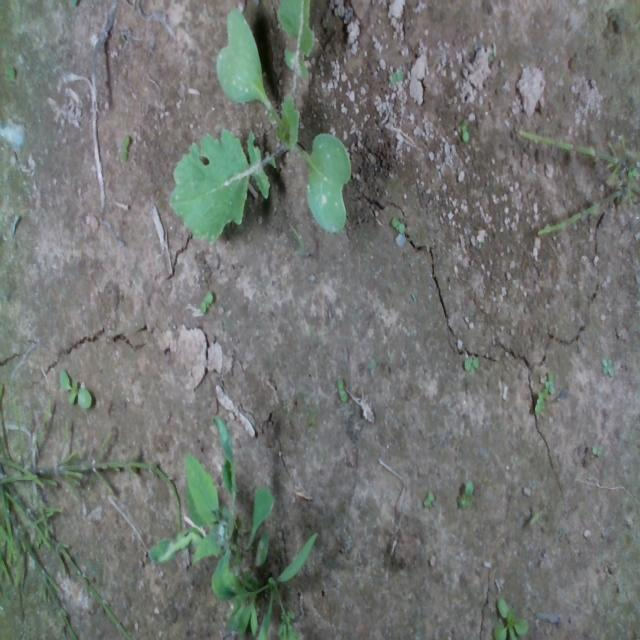weed: (58, 366, 92, 410), (456, 479, 474, 509), (462, 351, 479, 373), (199, 290, 213, 314), (390, 214, 405, 236), (600, 356, 614, 378), (120, 132, 130, 162), (336, 375, 346, 403), (458, 118, 469, 142), (423, 490, 433, 508), (4, 65, 16, 80), (592, 444, 602, 458)
